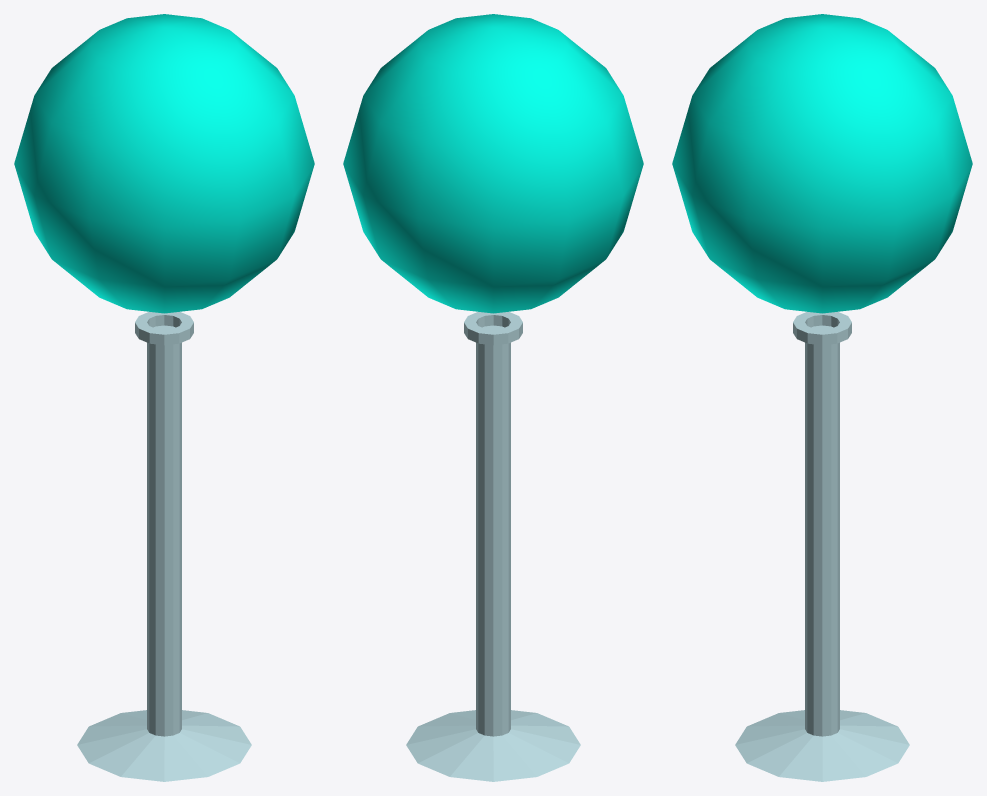
The model's file is lamp-01.fbx.
3 views of the same model, side by side, from view 1: azimuth 30°, elevation 25°; view 2: azimuth 150°, elevation 25°; view 3: azimuth 270°, elevation 25° (orthographic).
Visible parts, largest first — view 1: lamp-01-lamp, lamp-01; view 2: lamp-01-lamp, lamp-01; view 3: lamp-01-lamp, lamp-01.
Boxes of the visible parts, box(x1,y1,x2,y2) form: lamp-01-lamp: box(14, 14, 314, 313); lamp-01: box(77, 312, 251, 781); lamp-01-lamp: box(343, 14, 643, 313); lamp-01: box(406, 312, 580, 781); lamp-01-lamp: box(672, 14, 972, 313); lamp-01: box(735, 312, 909, 781).
Size of the model in its own units: 30.01 by 79.01 by 30.01.
